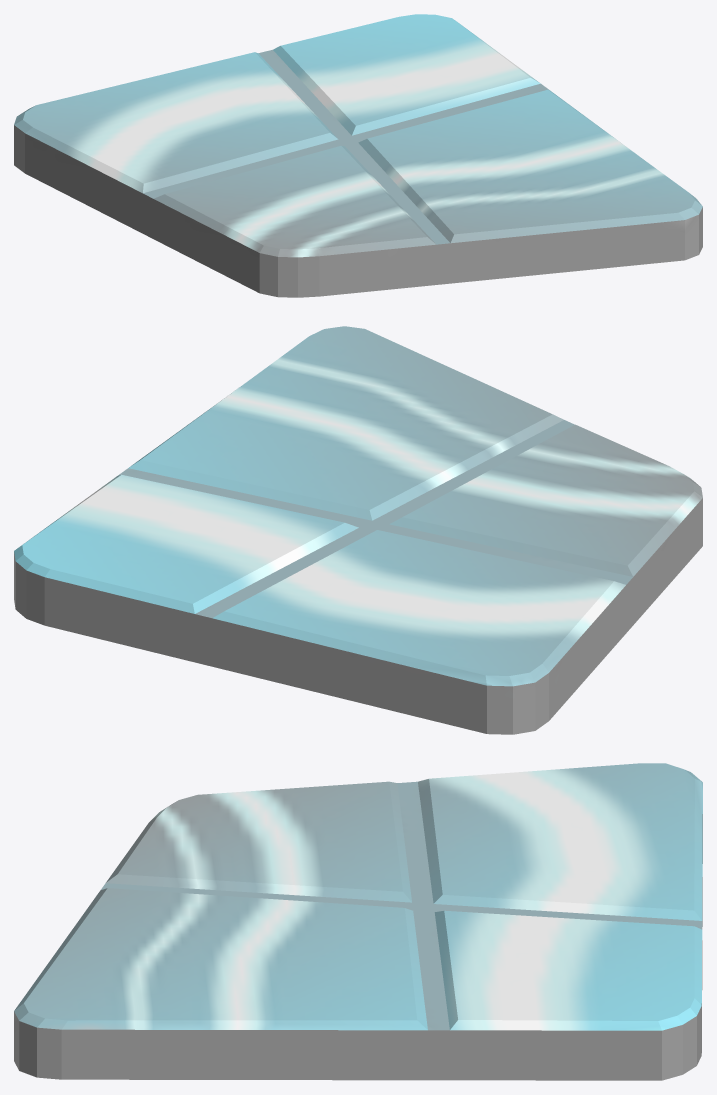
The model's file is Shield.fbx.
3 views of the same model, one above another, from view 1: azimuth 30°, elevation 25°; view 2: azimuth 150°, elevation 25°; view 3: azimuth 270°, elevation 25° (orthographic). The views are drawn at different scales.
Visible parts, largest first — view 1: Shield; view 2: Shield; view 3: Shield.
Part boxes in pixels (box(x1,y1,x2,y2)): Shield: box(14, 14, 702, 297); Shield: box(14, 326, 702, 734); Shield: box(14, 763, 702, 1080).
Size of the model in its own units: 279 by 27.64 by 306.
